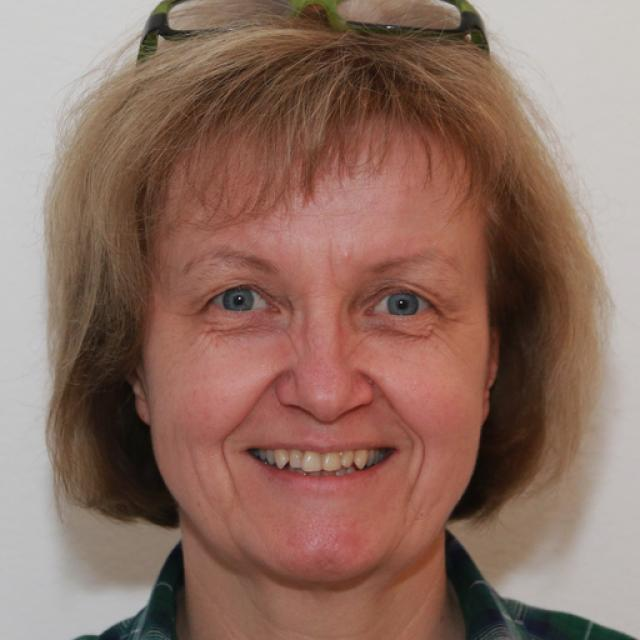Acne: (332, 246, 357, 275)
Wrinkle: (359, 368, 426, 494), (219, 374, 276, 502)
